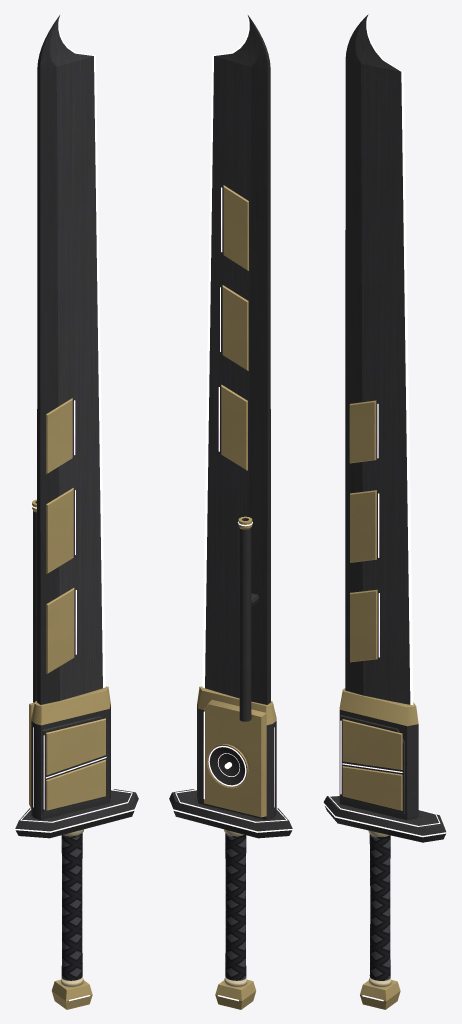
3 views of the same model, side by side, from view 1: azimuth 30°, elevation 25°; view 2: azimuth 150°, elevation 25°; view 3: azimuth 330°, elevation 25° (orthographic).
Parts seen in each view (by area): view 1: kat_blade_brass, kat_plate_brass, kat_shin_brass, kat_dark_brass, kat_wrap, glow_kat_edge_pale, glow_kat_line_pale, glow_kat_rim_pale; view 2: kat_blade_brass, kat_shin_brass, kat_plate_brass, kat_dark_brass, kat_wrap, glow_kat_edge_pale, glow_kat_line_pale, glow_kat_rim_pale; view 3: kat_blade_brass, kat_plate_brass, kat_shin_brass, kat_dark_brass, kat_wrap, glow_kat_edge_pale, glow_kat_line_pale, glow_kat_rim_pale.
Boxes of the visible parts, x1,y1,x2,y2 form: kat_blade_brass: (50, 16, 102, 700); kat_plate_brass: (29, 398, 110, 1009); kat_shin_brass: (37, 15, 59, 704); kat_dark_brass: (15, 501, 138, 838); kat_wrap: (61, 833, 82, 980); glow_kat_edge_pale: (58, 14, 105, 687); glow_kat_line_pale: (20, 400, 132, 822); glow_kat_rim_pale: (14, 504, 139, 1001); kat_blade_brass: (205, 16, 257, 698); kat_shin_brass: (248, 15, 270, 704); kat_plate_brass: (197, 185, 276, 1009); kat_dark_brass: (169, 518, 292, 838); kat_wrap: (225, 833, 246, 980); glow_kat_edge_pale: (202, 14, 249, 687); glow_kat_line_pale: (175, 187, 287, 822); glow_kat_rim_pale: (168, 521, 293, 1001); kat_blade_brass: (355, 14, 410, 704); kat_plate_brass: (339, 400, 418, 1009); kat_shin_brass: (345, 15, 367, 695); kat_dark_brass: (323, 710, 446, 842); kat_wrap: (369, 834, 390, 980); glow_kat_edge_pale: (366, 15, 413, 705); glow_kat_line_pale: (328, 404, 440, 826); glow_kat_rim_pale: (322, 802, 447, 1001).
Size of the model in its own units: 0.2637 by 1.99 by 0.1002.
9 materials, 6 textured.
